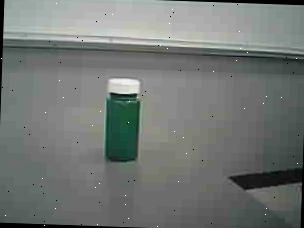Bottle C: (96, 72, 152, 172)
